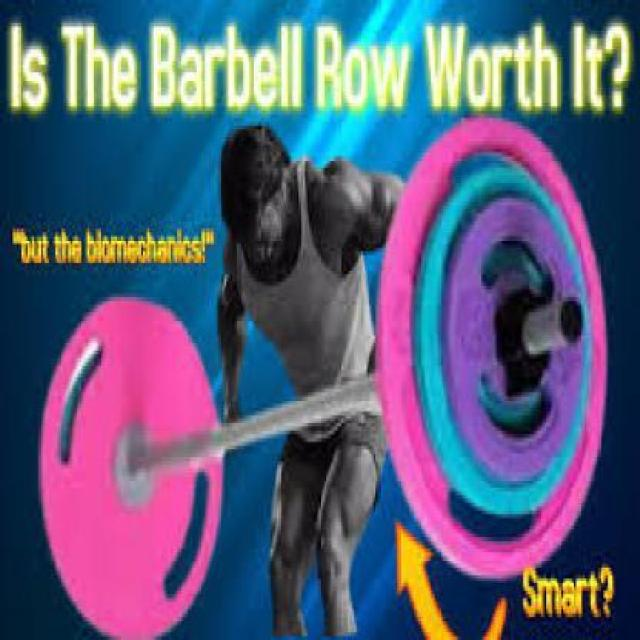barbell: (382, 115, 616, 584)
